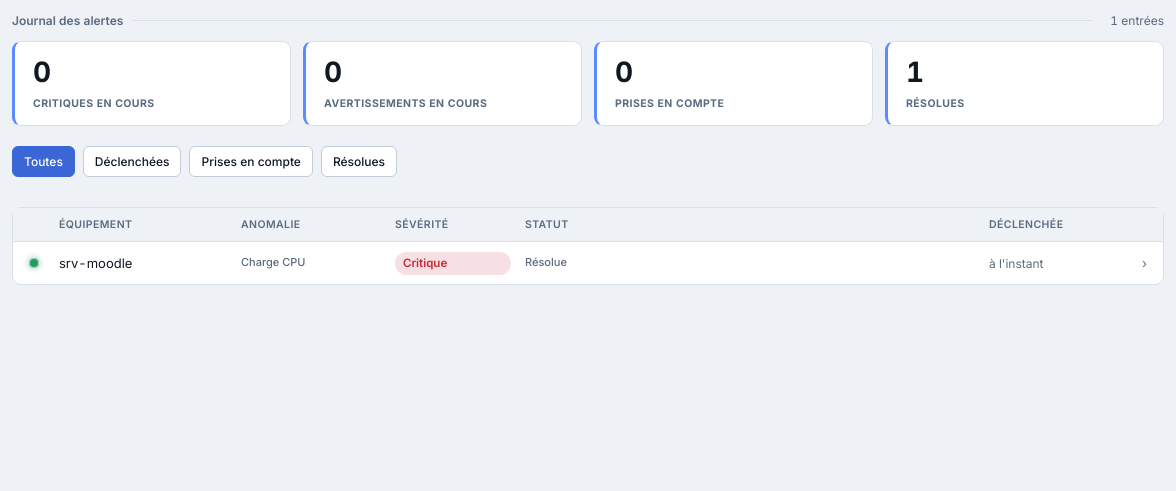
Scenario: AlertesPage › affiche tel quel le message de refus renvoyé par le backend
This screenshot has width=1176, height=491.
Click the button "srv-moodle Charge CPU Critique Résolue à l'instant ›". click: (96, 263)
box: [13,242,1163,284]
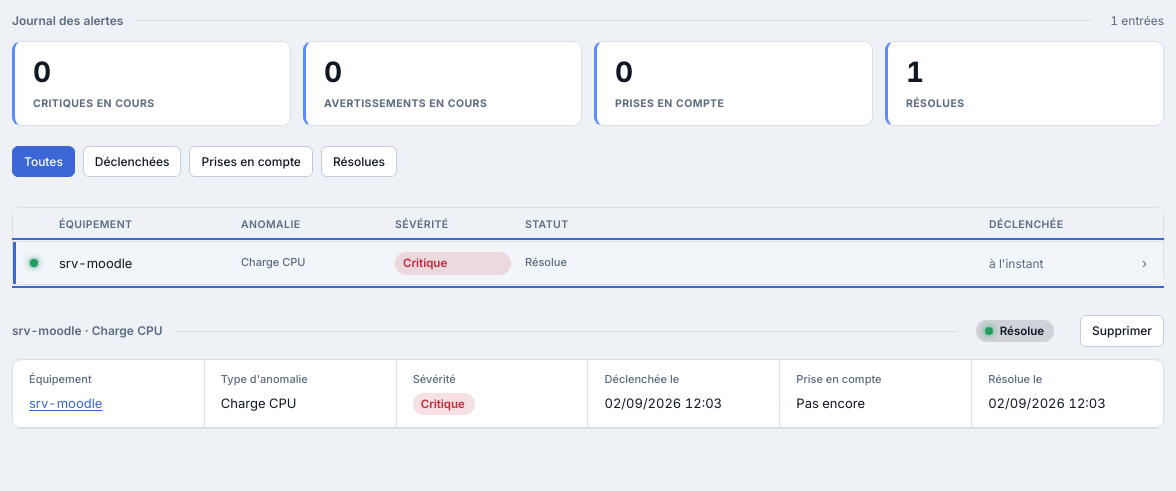
Click the button "Supprimer". click: (1122, 331)
box: [1080,315,1164,347]
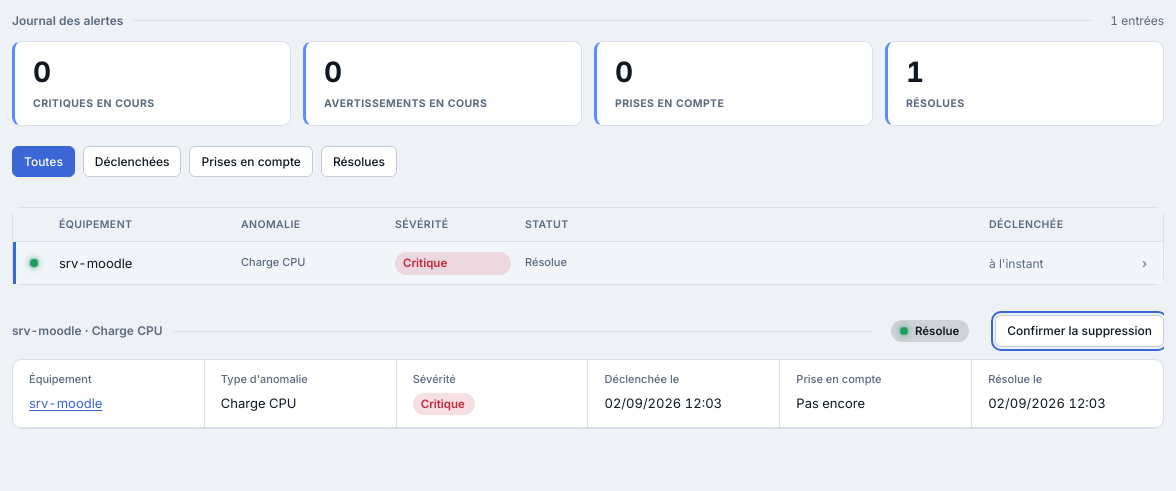
Click the button "Confirmer la suppression". click: (1080, 331)
box: [995,315,1164,347]
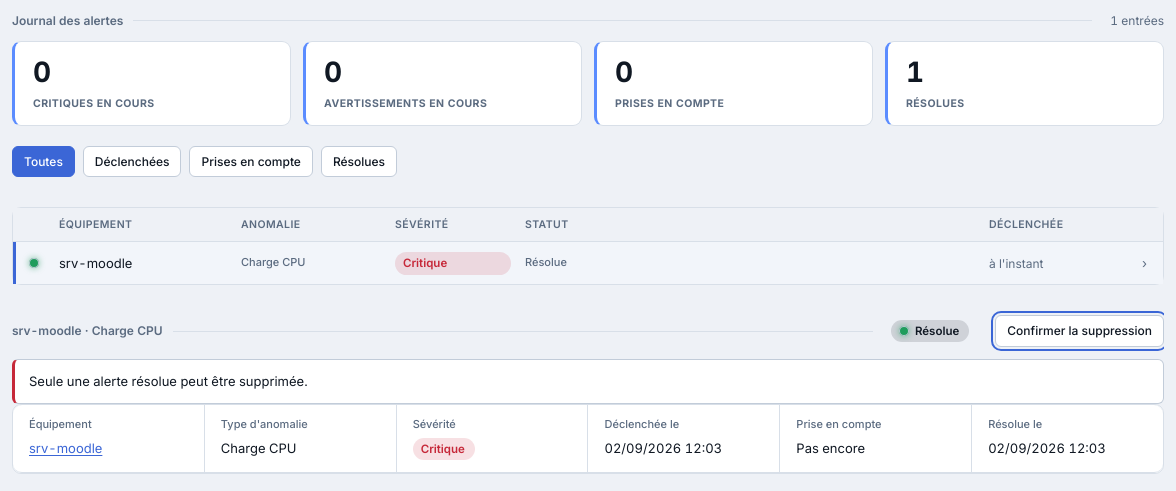
expect the text "Seule une alerte résolue peut être supprimée." is shown: met, box [12,359,1164,404]
